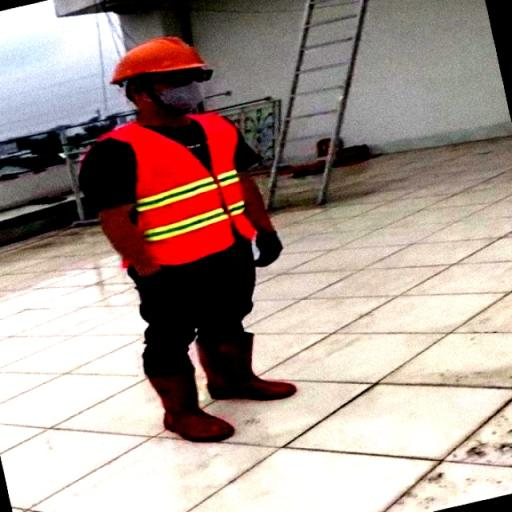Person: (85, 27, 321, 451)
boots: (203, 321, 306, 405), (147, 368, 241, 442)
gloves: (242, 229, 288, 267), (138, 272, 177, 306)
goggles: (136, 64, 220, 88)
helmet: (100, 33, 212, 83)
vest: (112, 100, 261, 256)
